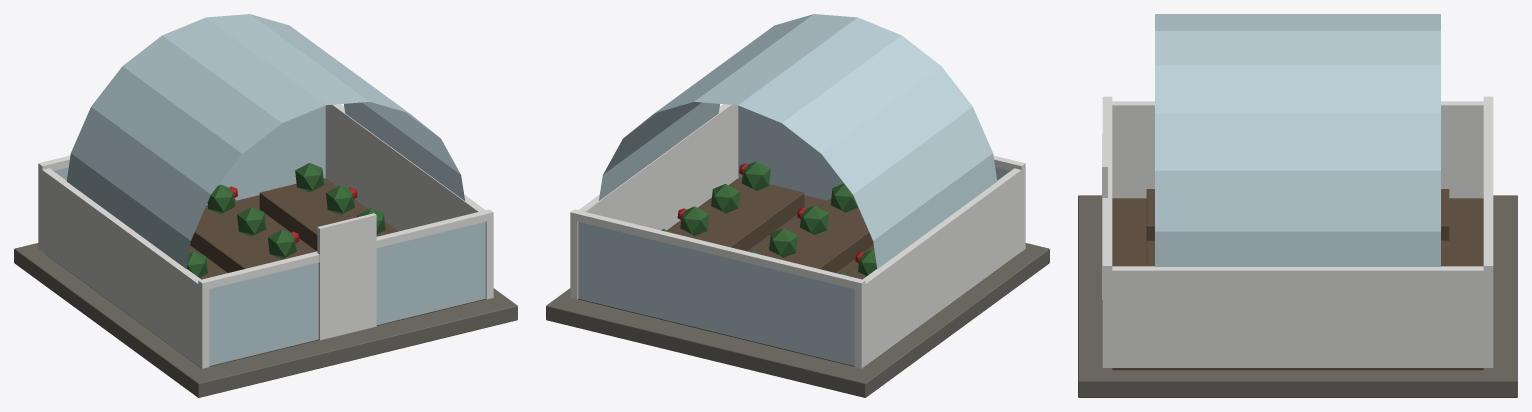
Rendered from sera.glb.
3 views of the same model, side by side, from view 1: azimuth 30°, elevation 25°; view 2: azimuth 150°, elevation 25°; view 3: azimuth 270°, elevation 25° (orthographic). The views are drawn at different scales.
Visible parts, largest first — view 1: Cylinder; view 2: Cylinder; view 3: Cylinder.
Boxes of the visible parts, x1,y1,x2,y2 form: Cylinder: (14,14,517,397); Cylinder: (546,14,1049,397); Cylinder: (1078,14,1517,397).
Bounding box in the file's own units: 1 × 0.6889 × 1.
